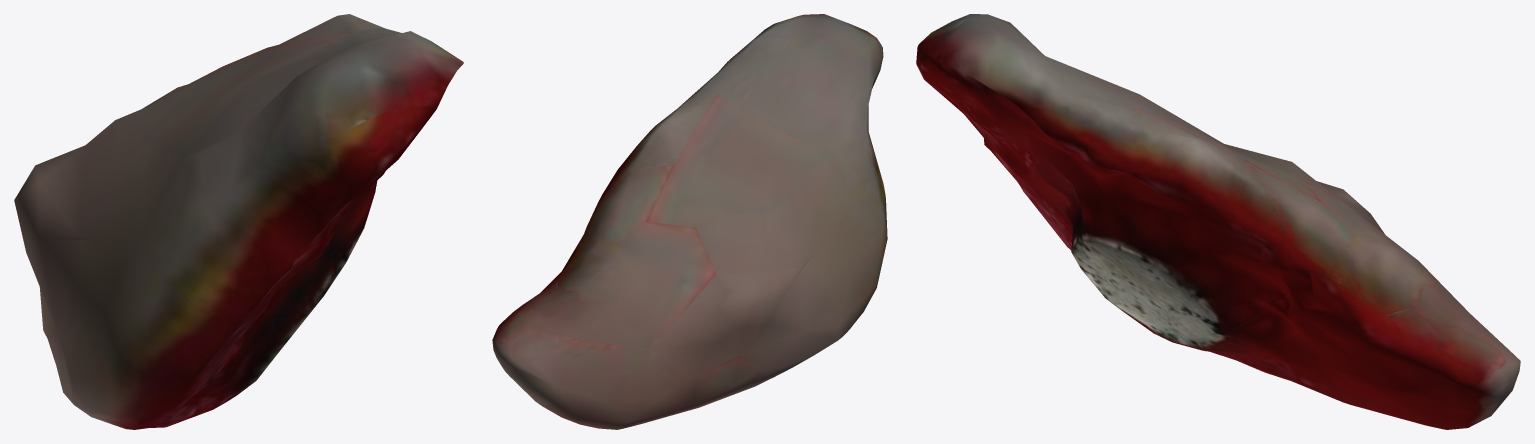
File: hall.glb
3 renders of one model, left to right at view 1: azimuth 30°, elevation 25°; view 2: azimuth 150°, elevation 25°; view 3: azimuth 270°, elevation 25°, orthographic. The views are drawn at different scales.
Bounding box in the file's own units: 0.1643 × 0.1862 × 0.2737.
Materials: 1 (1 with a texture image).
